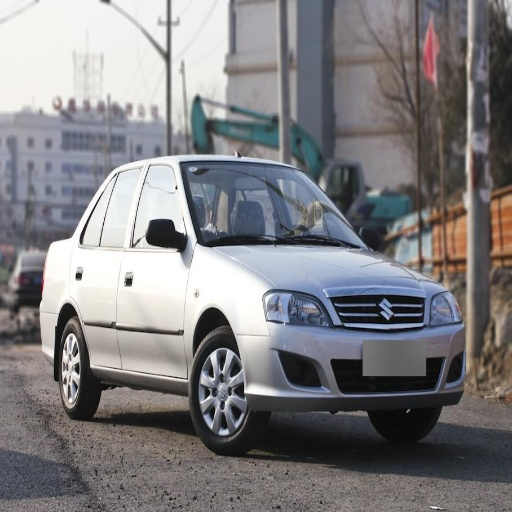front_bumper: (239, 285, 468, 409)
front_right_door: (117, 161, 192, 378)
front_right_light: (262, 289, 331, 326)
